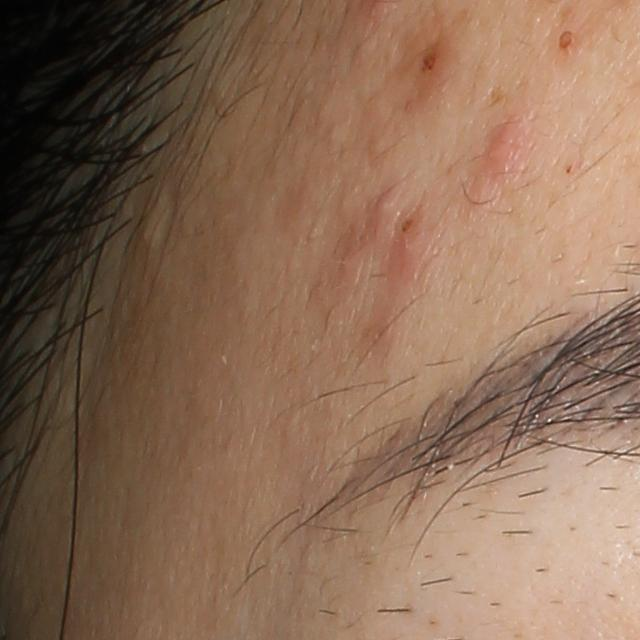comedo: (552, 28, 577, 54)
papule: (468, 117, 533, 211), (388, 210, 433, 290), (368, 192, 397, 223)
